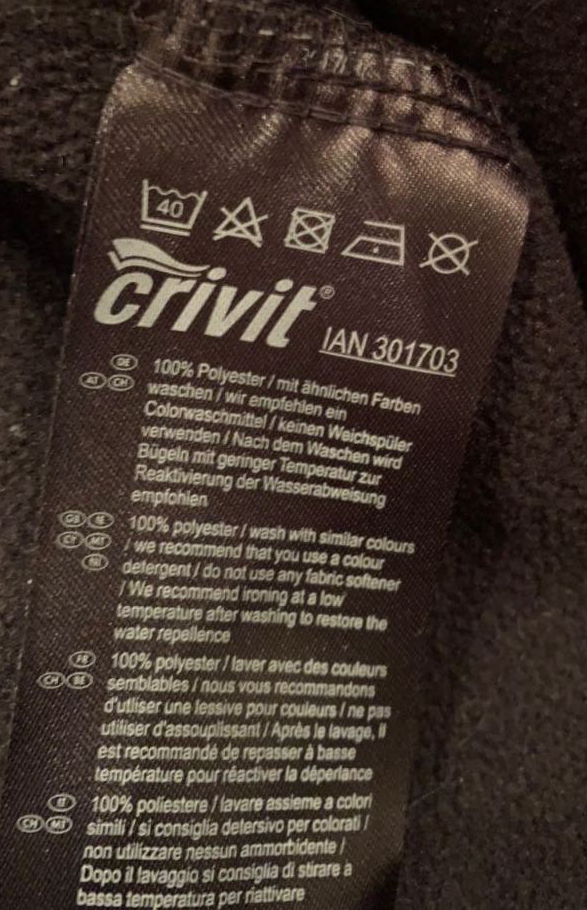do_not_bleach: (211, 193, 274, 247)
do_not_dry_clean: (416, 229, 480, 278)
do_not_tumble_drying: (282, 205, 338, 255)
ironing_at_low_temp: (341, 215, 411, 265)
wash_at_or_below_40_mild_fine_wash: (133, 180, 211, 237)
